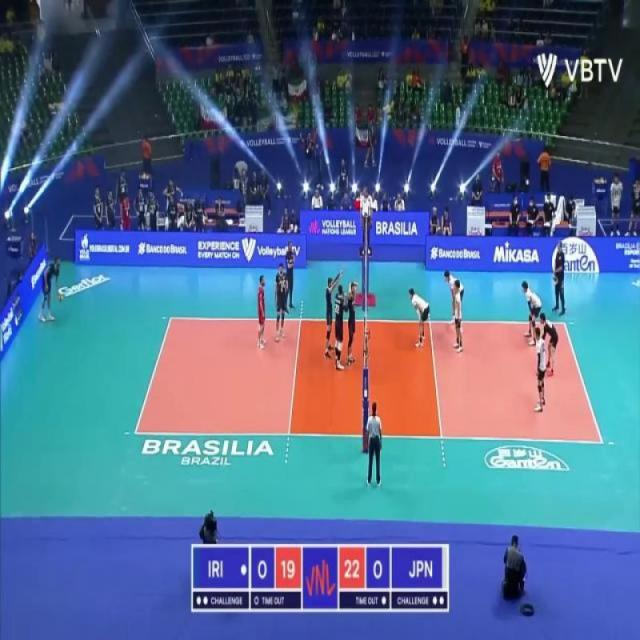volleyball: (595, 177, 606, 184), (58, 292, 64, 304), (142, 172, 147, 178)
